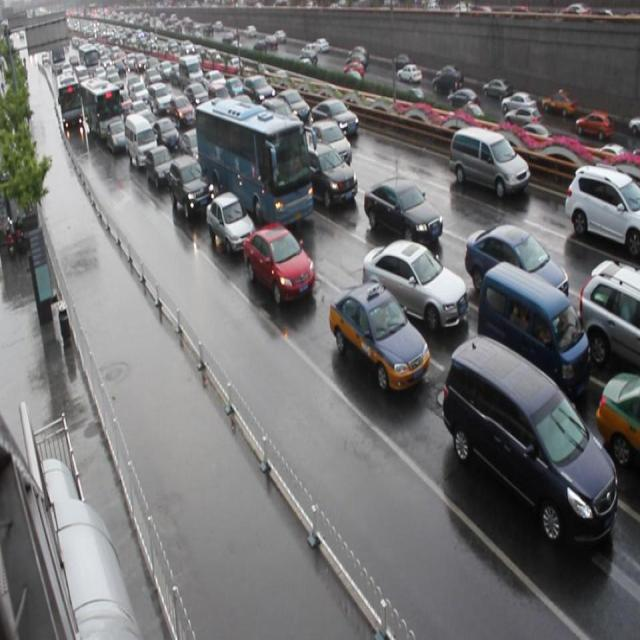car: (329, 280, 429, 392), (362, 239, 466, 331), (464, 224, 567, 309), (562, 164, 640, 258), (579, 259, 640, 372), (242, 224, 314, 303), (364, 178, 441, 245), (592, 372, 640, 468), (304, 144, 358, 207), (205, 190, 256, 253), (168, 154, 213, 218), (307, 119, 352, 170), (312, 98, 358, 139), (145, 146, 175, 190), (276, 87, 310, 123), (179, 129, 207, 164), (153, 118, 179, 152)
truck: (442, 333, 616, 548), (477, 262, 589, 399), (448, 124, 530, 200)
van: (195, 96, 312, 228)
